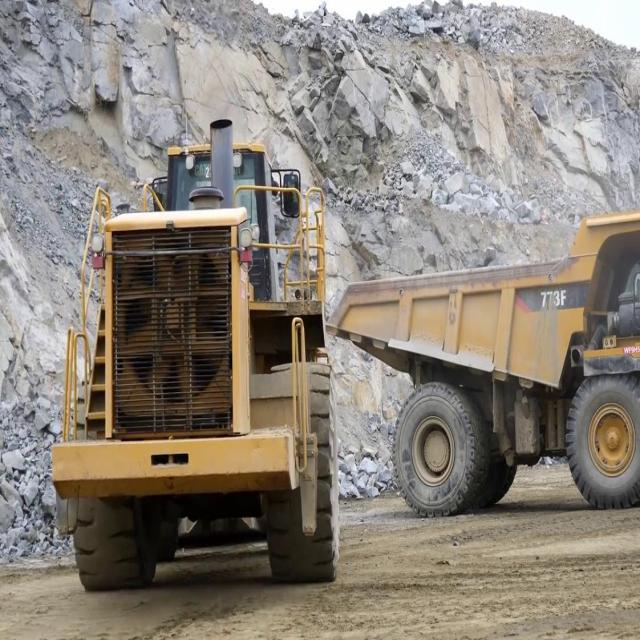Dump Truck: (326, 203, 639, 516)
Loader: (46, 117, 332, 605)
